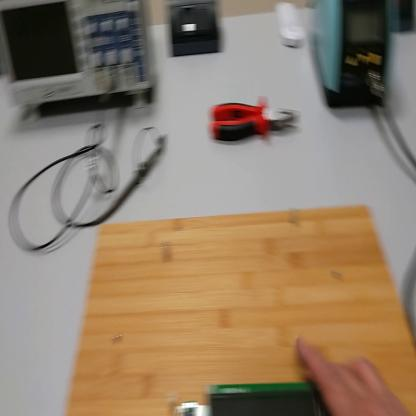hand: (297, 338, 413, 416)
low voltage board: (162, 378, 323, 416)
oscilloscope: (3, 2, 160, 125)
oscilloscope probe tip: (95, 149, 163, 228)
pliers: (208, 97, 303, 149)
socket: (392, 2, 415, 31)
welder station: (311, 3, 394, 117)
working area: (66, 202, 416, 416)
